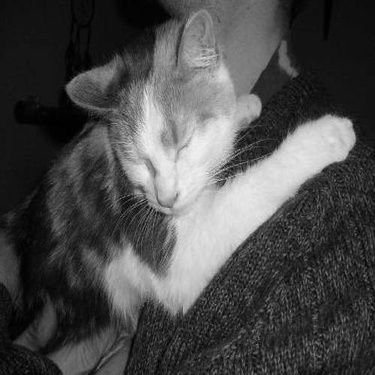cat: (11, 22, 358, 321)
